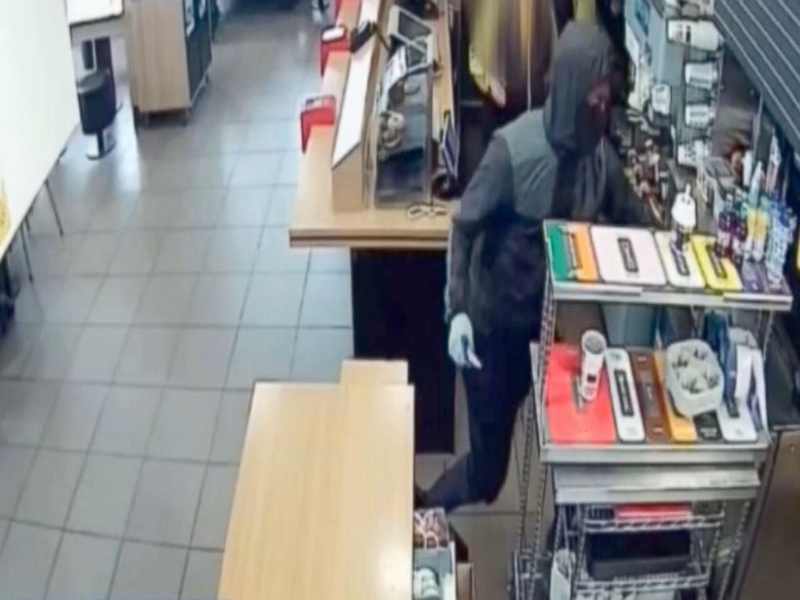balaclava: (547, 18, 609, 149)
hand: (444, 305, 474, 367)
knife: (465, 346, 484, 368)
person: (445, 20, 642, 335)
